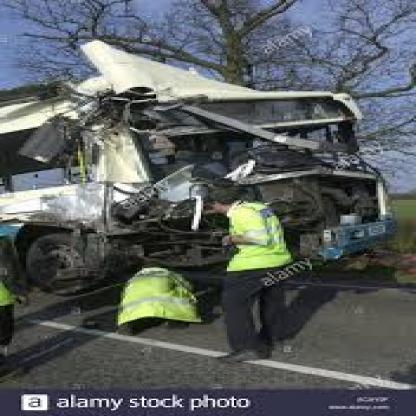accident: (9, 36, 394, 320)
